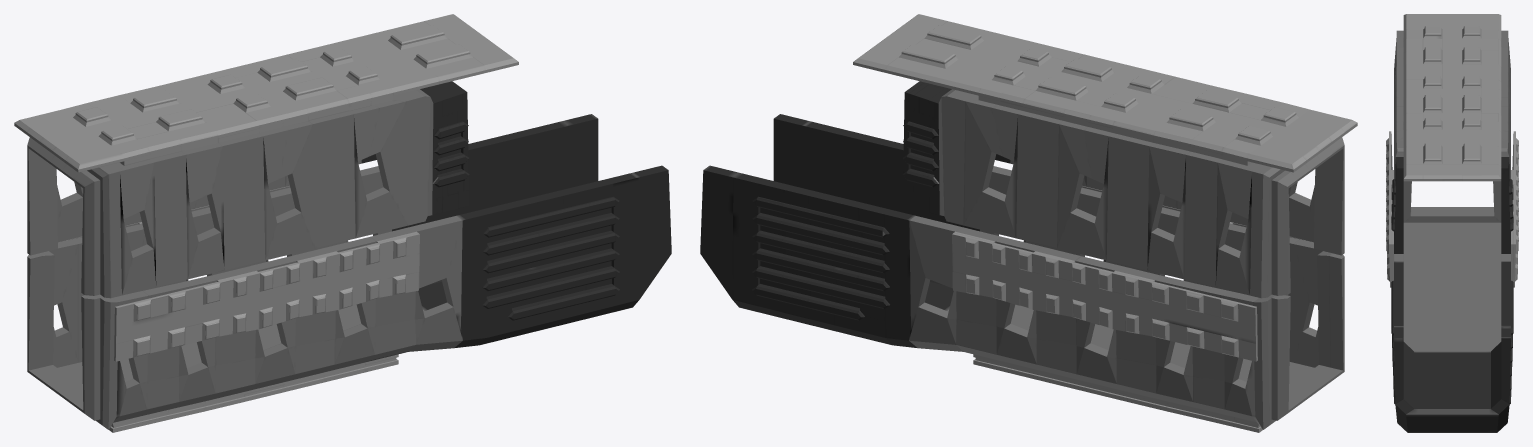
The model's file is ForearmSkeletal.fbx.
3 views of the same model, side by side, from view 1: azimuth 30°, elevation 25°; view 2: azimuth 150°, elevation 25°; view 3: azimuth 270°, elevation 25° (orthographic). The views are drawn at different scales.
Parts seen in each view (by area): view 1: ForearmSkeletal; view 2: ForearmSkeletal; view 3: ForearmSkeletal.
Boxes of the visible parts, x1,y1,x2,y2 form: ForearmSkeletal: [14, 14, 671, 432]; ForearmSkeletal: [700, 14, 1357, 432]; ForearmSkeletal: [1386, 14, 1518, 432].
Bounding box in the file's own units: 42.21 × 20.11 × 10.81.
Materials: 1 (1 with a texture image).
